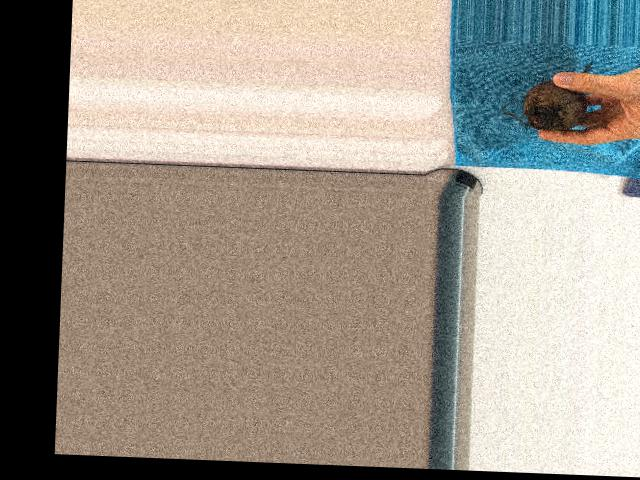beet: (502, 57, 592, 131)
